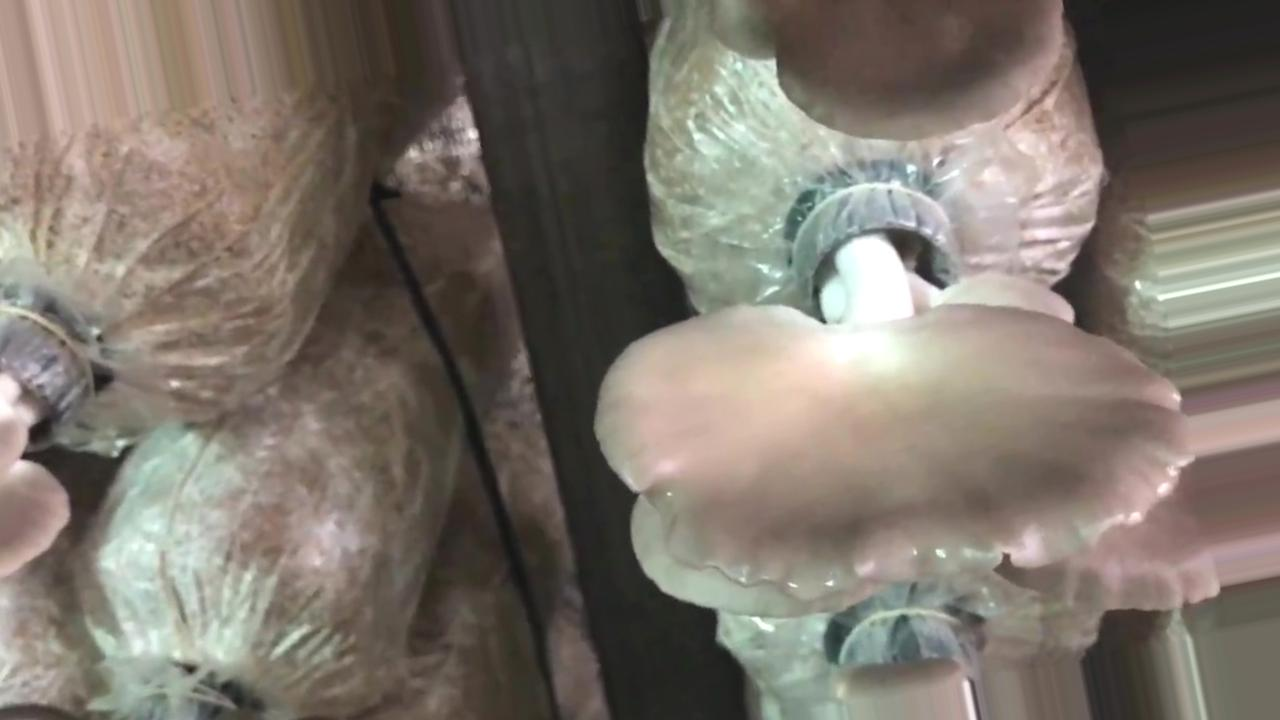nam: (592, 163, 1192, 603), (773, 1, 1067, 145), (1, 289, 85, 573)
